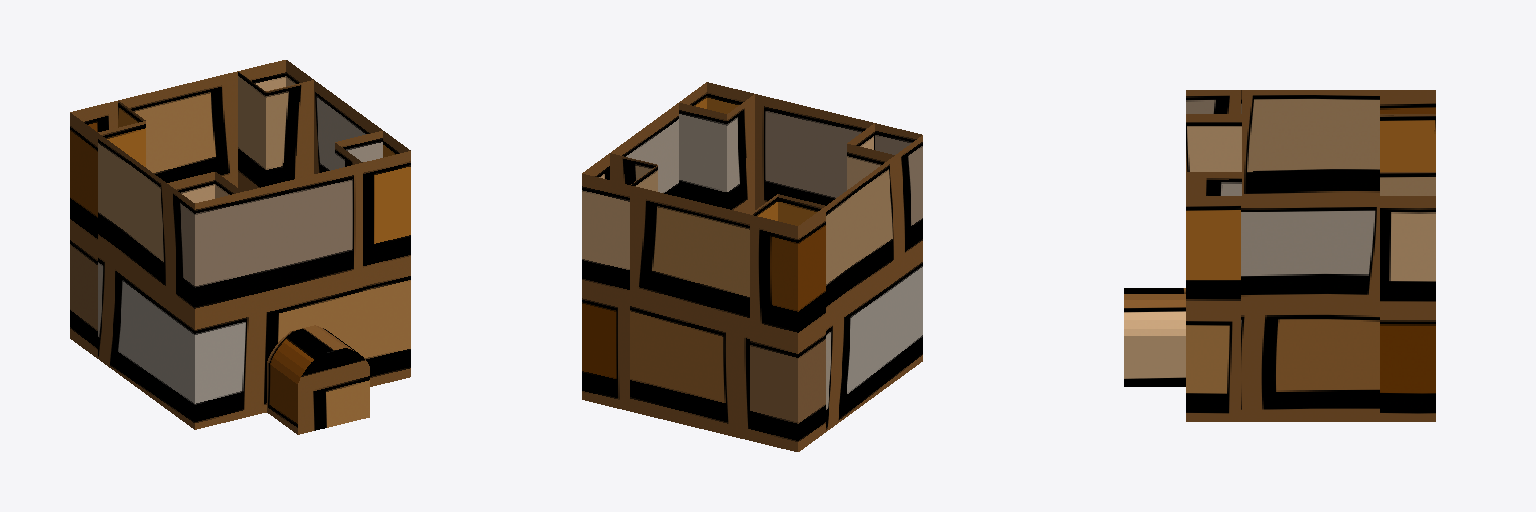
3 views of the same model, side by side, from view 1: azimuth 30°, elevation 25°; view 2: azimuth 150°, elevation 25°; view 3: azimuth 270°, elevation 25° (orthographic).
Parts seen in each view (by area): view 1: Grid_Grid.001; view 2: Grid_Grid.001; view 3: Grid_Grid.001.
Part boxes in pixels (x1,y1,x2,y2): Grid_Grid.001: (70,60,410,434); Grid_Grid.001: (582,82,922,451); Grid_Grid.001: (1124,90,1435,421).
Bounding box in the file's own units: 40 × 40 × 49.89.
1 materials, 1 textured.